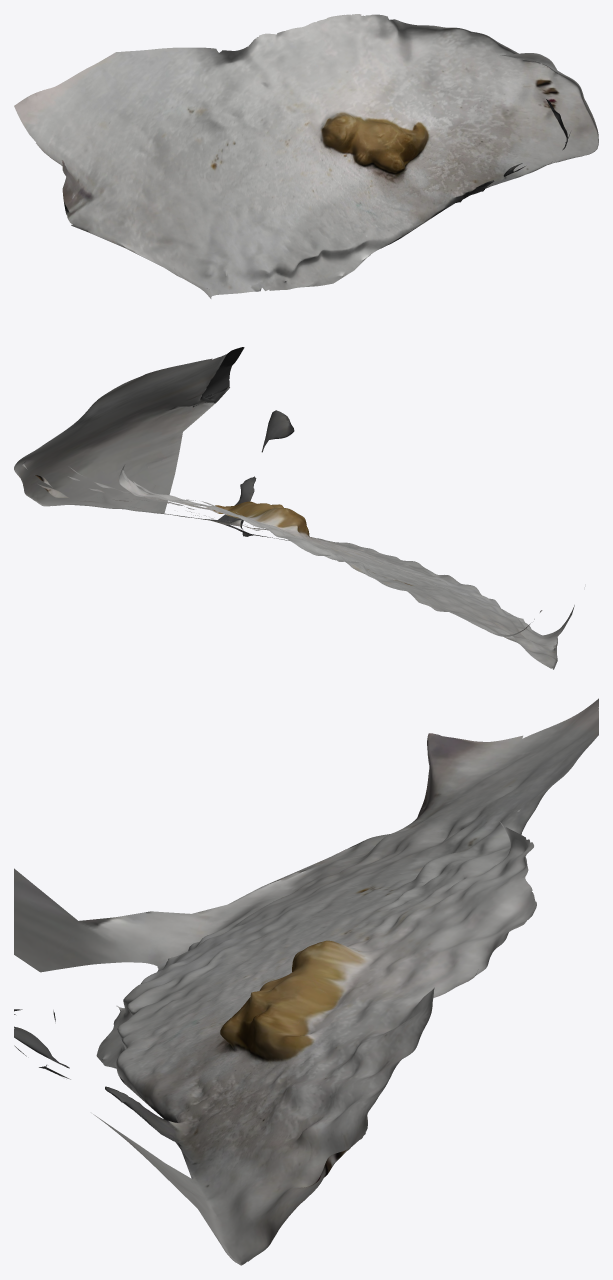
The picture shows the model from 3 angles, top to bottom: view 1: azimuth 30°, elevation 25°; view 2: azimuth 150°, elevation 25°; view 3: azimuth 270°, elevation 25°; orthographic projection. The views are drawn at different scales.
Bounding box in the file's own units: 1.02 × 0.2903 × 0.6003.
1 material, 1 textured.
